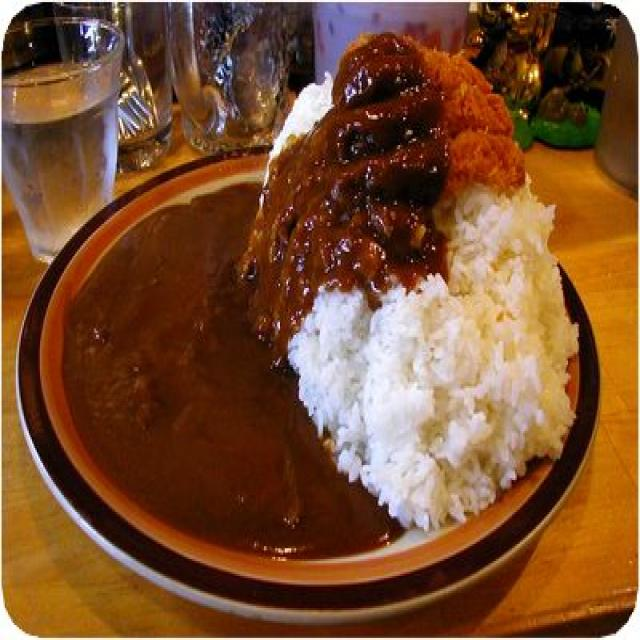猪肉菜式: (18, 34, 608, 625)
